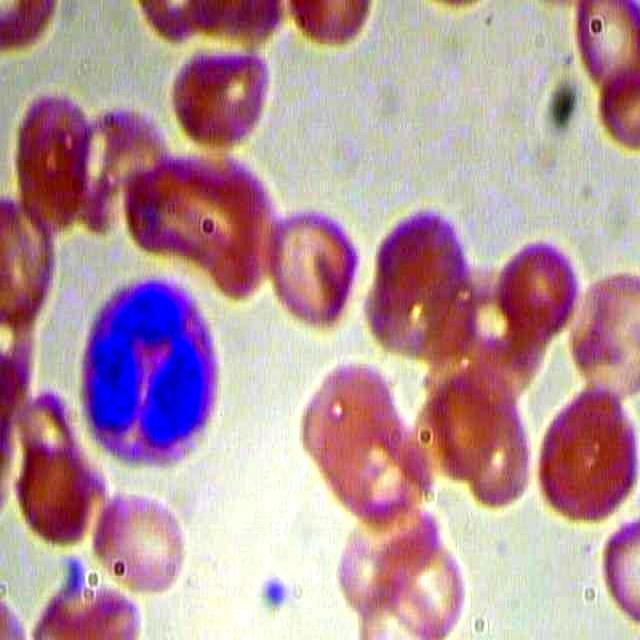RBC: (365, 202, 485, 358), (533, 380, 640, 519), (299, 353, 404, 492), (10, 88, 99, 245), (262, 201, 366, 327), (169, 31, 273, 156), (84, 488, 193, 589), (377, 524, 473, 635), (11, 432, 102, 547), (496, 237, 584, 331), (573, 2, 640, 94)
WBC: (62, 272, 236, 479), (257, 574, 288, 610)
